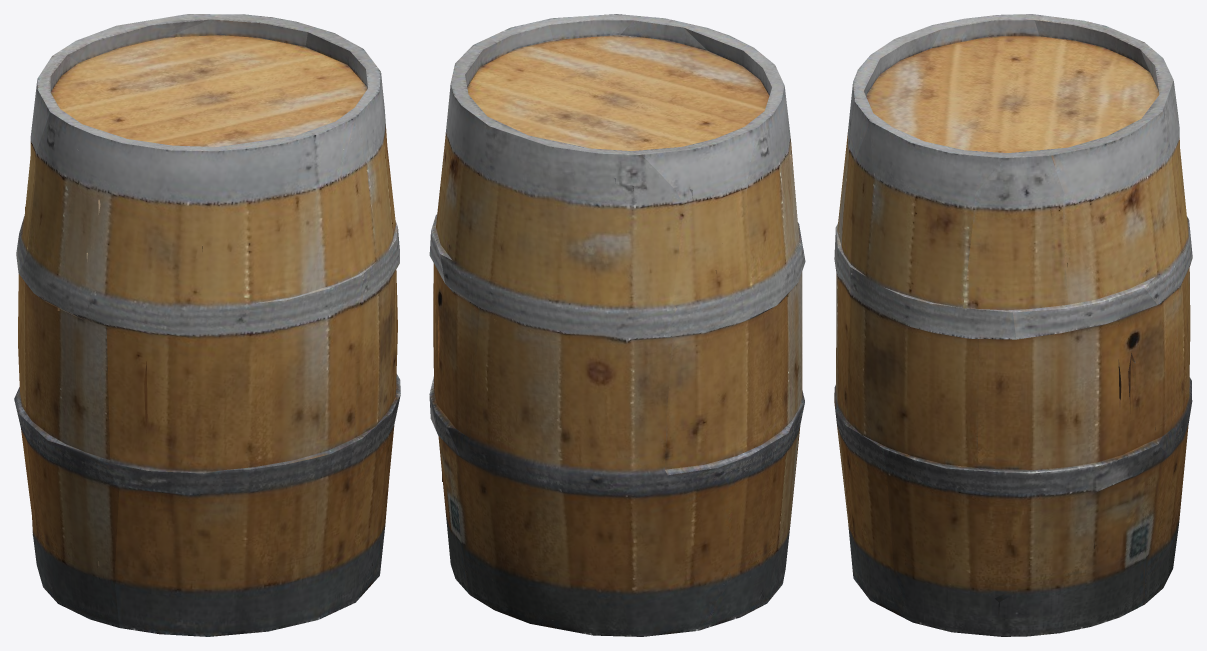
Rendered from barrel-oak.glb.
The picture shows the model from 3 angles, left to right: view 1: azimuth 30°, elevation 25°; view 2: azimuth 150°, elevation 25°; view 3: azimuth 270°, elevation 25°; orthographic projection.
Parts seen in each view (by area): view 1: barrel-oak; view 2: barrel-oak; view 3: barrel-oak.
Part boxes in pixels (x1=…): barrel-oak: x1=14, y1=14, x2=400, y2=636; barrel-oak: x1=429, y1=14, x2=805, y2=636; barrel-oak: x1=834, y1=14, x2=1192, y2=636.
Bounding box in the file's own units: 0.6484 × 0.8995 × 0.6101.
1 material, 1 textured.
